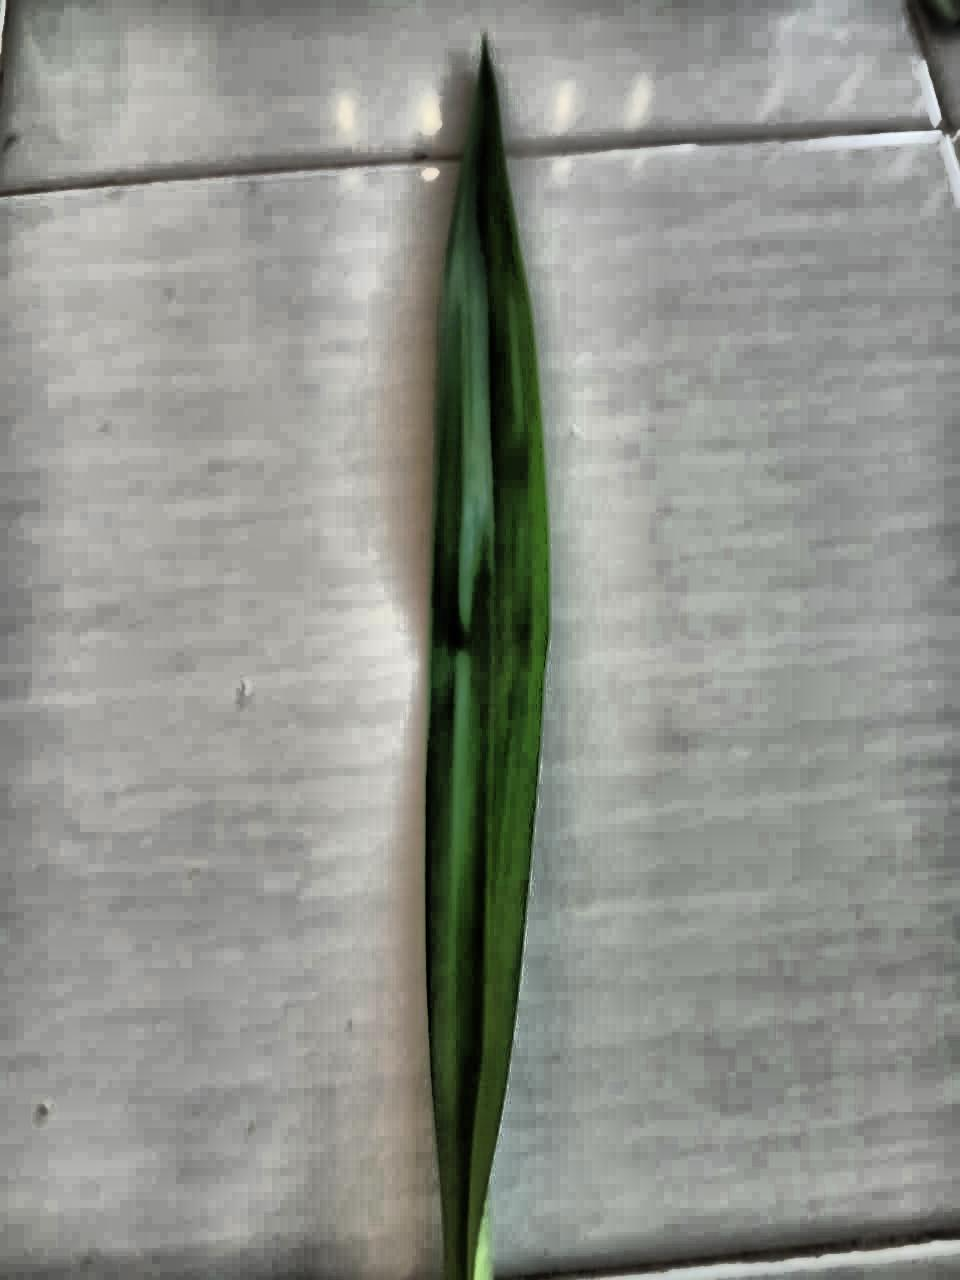daun pandan: (424, 43, 550, 1279)
